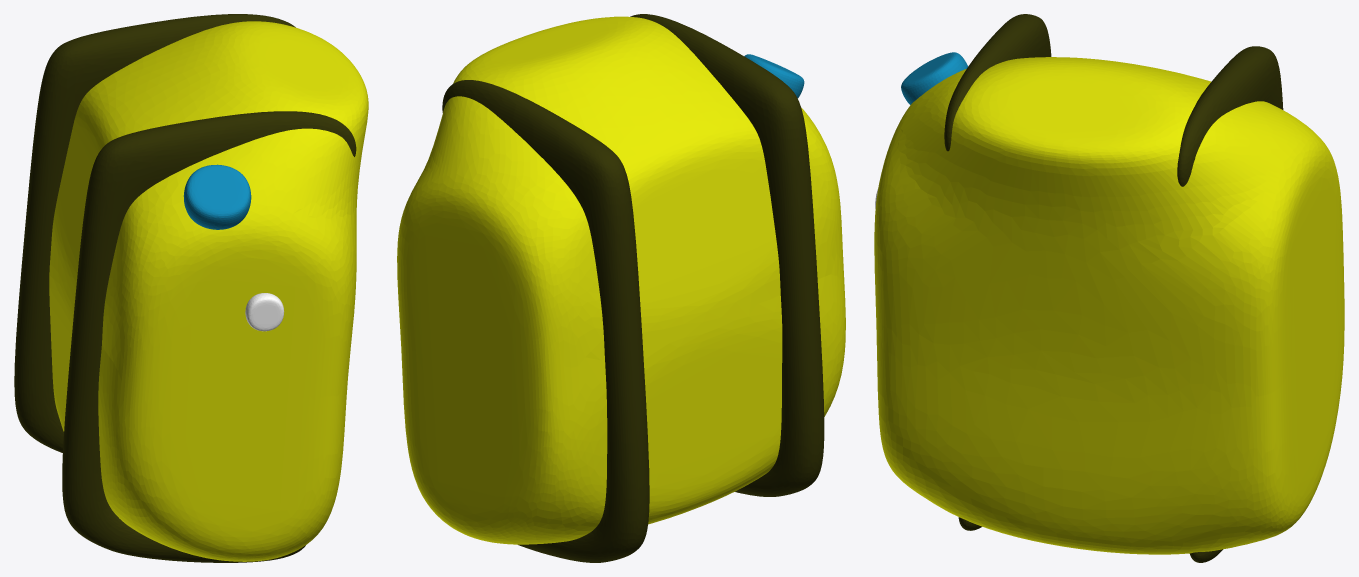
File: mochila.fbx
3 renders of one model, left to right at view 1: azimuth 30°, elevation 25°; view 2: azimuth 150°, elevation 25°; view 3: azimuth 270°, elevation 25°, orthographic. The views are drawn at different scales.
Parts seen in each view (by area): view 1: MOCHILA.002; view 2: MOCHILA.002; view 3: MOCHILA.002.
Part boxes in pixels (x1=…): MOCHILA.002: x1=14, y1=14, x2=368, y2=562; MOCHILA.002: x1=397, y1=14, x2=845, y2=562; MOCHILA.002: x1=874, y1=14, x2=1344, y2=562.
Size of the model in its own units: 148 by 200 by 182.
